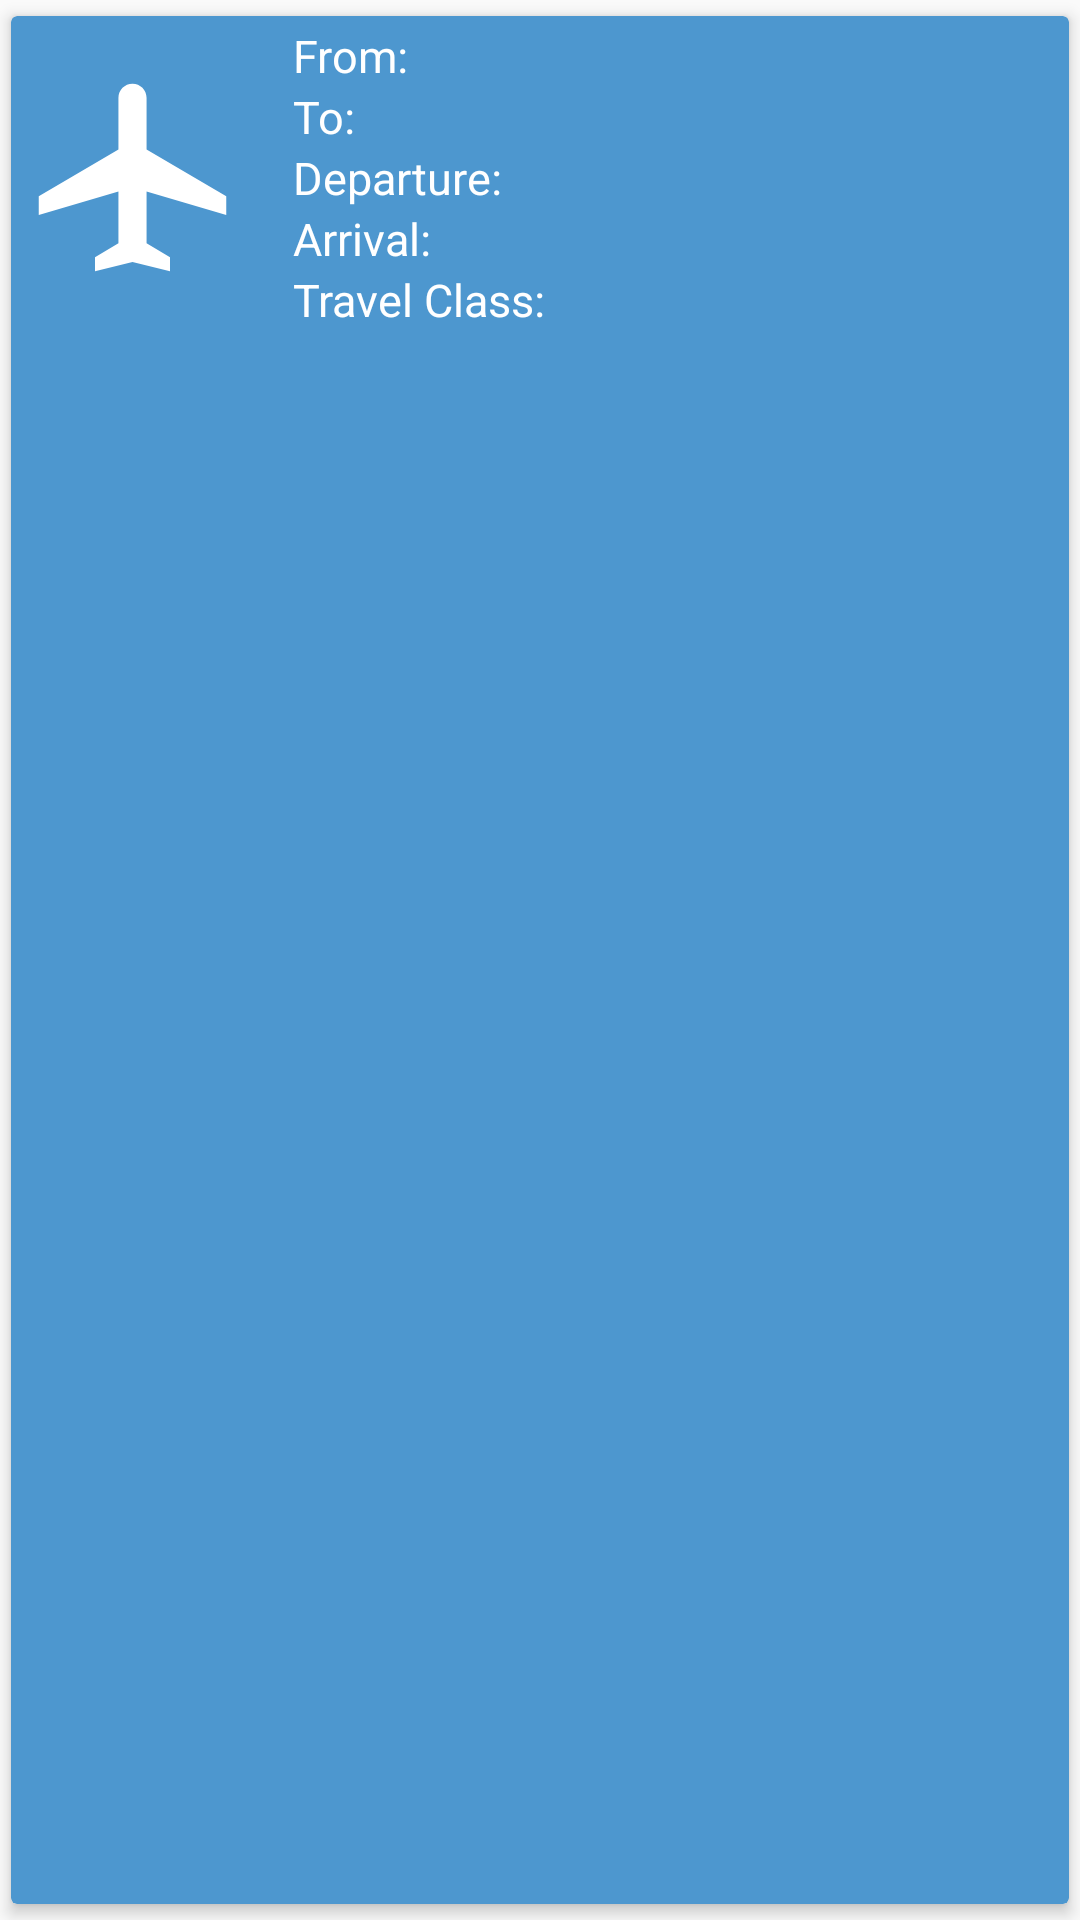

Where to tap for icons on this 1080x1920 app screen, as point (x, y):
airplanemode: point (132, 177)
